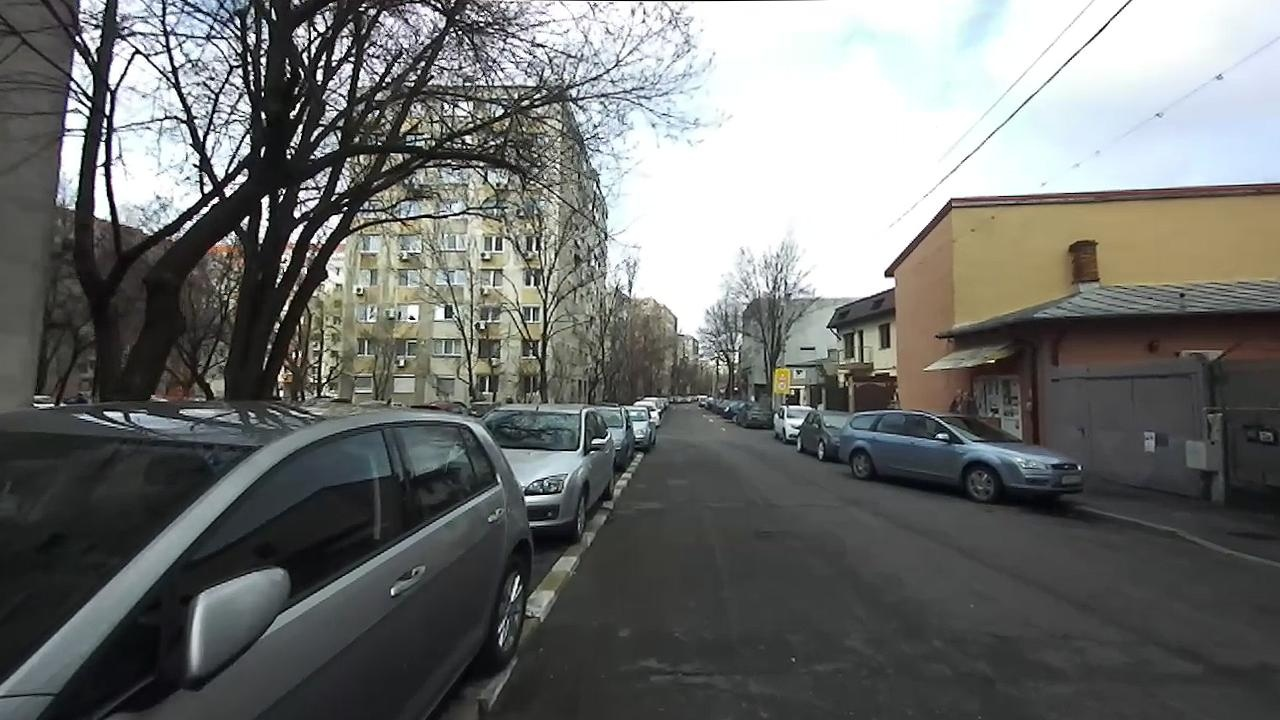pothole: (634, 656, 749, 684), (754, 525, 782, 539)
